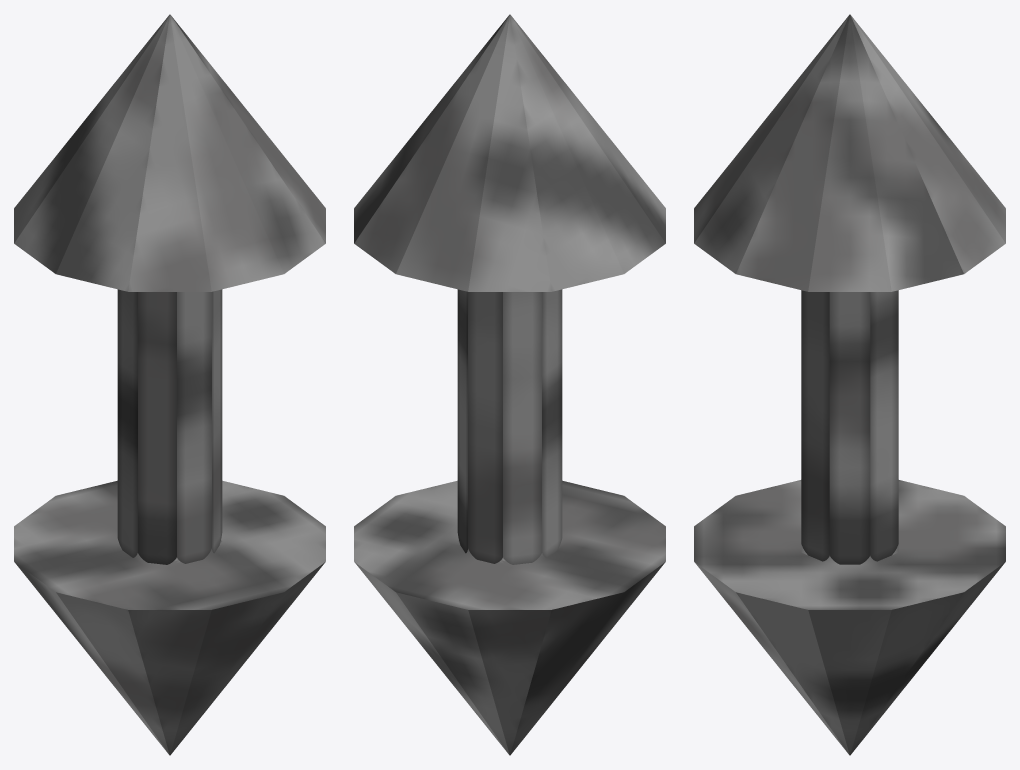
Rendered from Guard.fbx.
3 views of the same model, side by side, from view 1: azimuth 30°, elevation 25°; view 2: azimuth 150°, elevation 25°; view 3: azimuth 270°, elevation 25° (orthographic).
Parts seen in each view (by area): view 1: cone_1, cone, cylinder; view 2: cone_1, cone, cylinder; view 3: cone_1, cone, cylinder.
Boxes of the visible parts, x1,y1,x2,y2 form: cone_1: (14, 14, 325, 291); cone: (14, 480, 325, 755); cylinder: (117, 289, 222, 564); cone_1: (354, 14, 665, 291); cone: (354, 480, 665, 755); cylinder: (457, 289, 562, 564); cone_1: (694, 14, 1005, 291); cone: (694, 480, 1005, 755); cylinder: (801, 290, 898, 564).
Size of the model in its own units: 100 by 262 by 100.
1 material, 1 textured.
